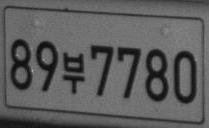0: (172, 49, 198, 104)
7: (89, 44, 114, 97), (117, 46, 141, 99)
8: (144, 47, 170, 102), (10, 38, 33, 90)
9: (34, 40, 59, 91)
부: (62, 51, 85, 95)
